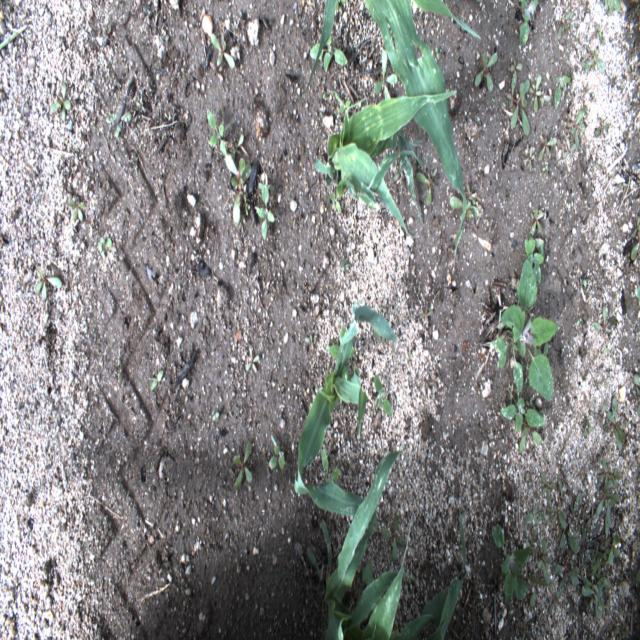crop: (363, 0, 481, 276), (308, 451, 467, 639), (294, 304, 398, 518), (313, 91, 457, 239), (299, 0, 336, 103)
weed: (491, 257, 559, 401), (491, 524, 533, 605), (580, 543, 612, 618), (560, 492, 596, 553), (225, 153, 251, 224), (501, 398, 545, 436), (327, 326, 355, 382), (550, 547, 580, 598), (506, 74, 531, 135), (310, 32, 348, 72), (600, 395, 626, 451), (372, 49, 398, 100), (449, 182, 482, 222), (206, 107, 230, 159), (380, 512, 406, 560), (547, 476, 567, 528), (473, 51, 498, 91), (518, 0, 539, 46), (524, 238, 545, 284), (258, 184, 275, 239), (373, 372, 392, 420), (210, 33, 236, 68), (50, 80, 71, 123), (596, 485, 618, 526), (600, 521, 620, 566), (416, 166, 438, 206), (566, 106, 586, 150), (35, 268, 62, 300), (234, 441, 252, 489), (530, 74, 552, 112), (598, 458, 620, 494), (529, 573, 552, 607), (0, 23, 28, 50), (519, 420, 541, 454), (321, 448, 340, 486), (592, 305, 618, 331), (105, 111, 132, 136), (554, 71, 571, 110), (355, 562, 373, 598), (537, 538, 551, 583), (268, 433, 284, 471), (525, 498, 546, 526), (541, 472, 556, 506), (581, 48, 602, 72), (557, 11, 573, 40), (538, 137, 558, 159), (630, 216, 640, 260), (530, 208, 544, 237), (231, 133, 244, 163), (68, 198, 84, 220), (246, 347, 260, 372), (510, 58, 523, 82), (526, 528, 538, 554), (150, 370, 164, 392), (562, 136, 576, 158), (419, 304, 433, 326), (594, 119, 610, 138), (258, 172, 274, 190), (524, 146, 535, 172), (633, 371, 639, 417), (595, 22, 606, 46), (329, 190, 341, 212), (338, 100, 351, 119), (604, 0, 620, 15), (606, 344, 616, 365), (627, 62, 637, 82), (342, 255, 350, 273), (372, 331, 384, 343), (100, 237, 113, 248), (98, 242, 105, 261), (634, 285, 640, 300), (541, 164, 549, 173), (212, 412, 220, 420), (435, 45, 439, 60), (577, 318, 582, 327), (408, 351, 413, 358)
